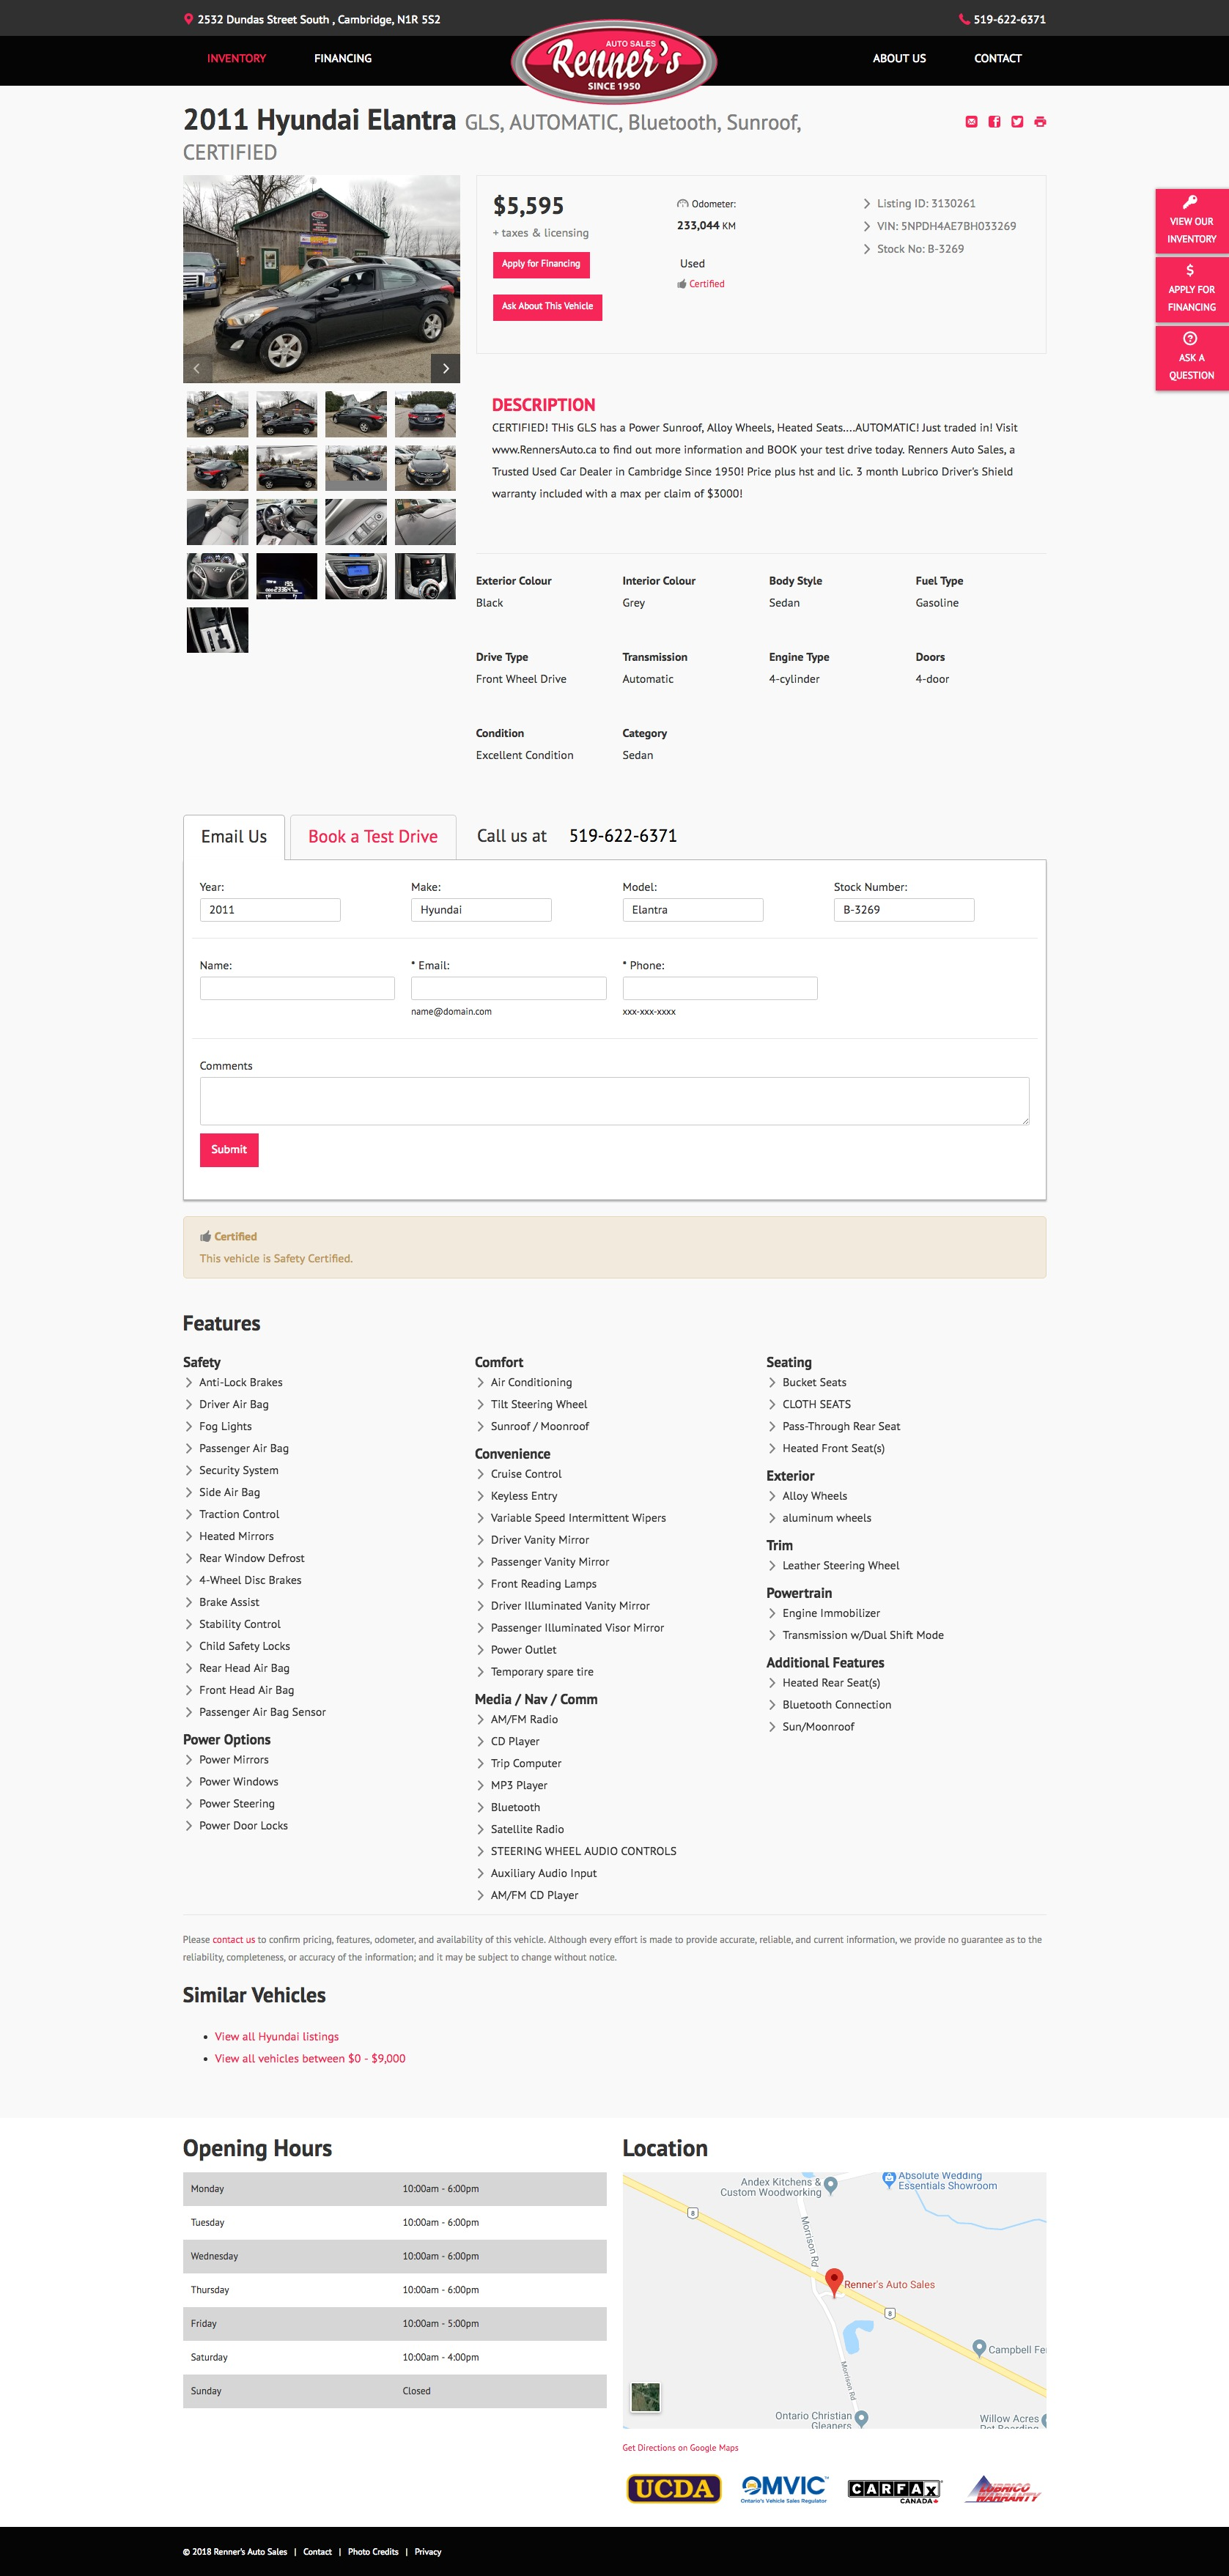car: (430, 353, 462, 386)
